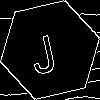J: (25, 25, 59, 76)
